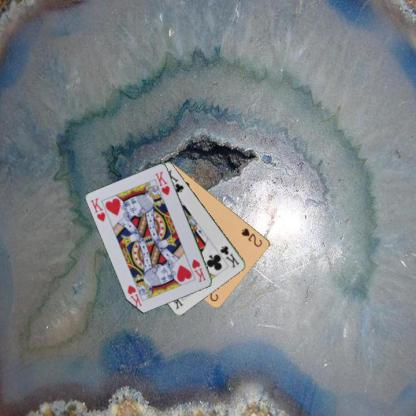2s: (238, 225, 263, 248)
Kc: (218, 243, 241, 269)
Kh: (88, 195, 107, 223), (190, 256, 208, 284)
